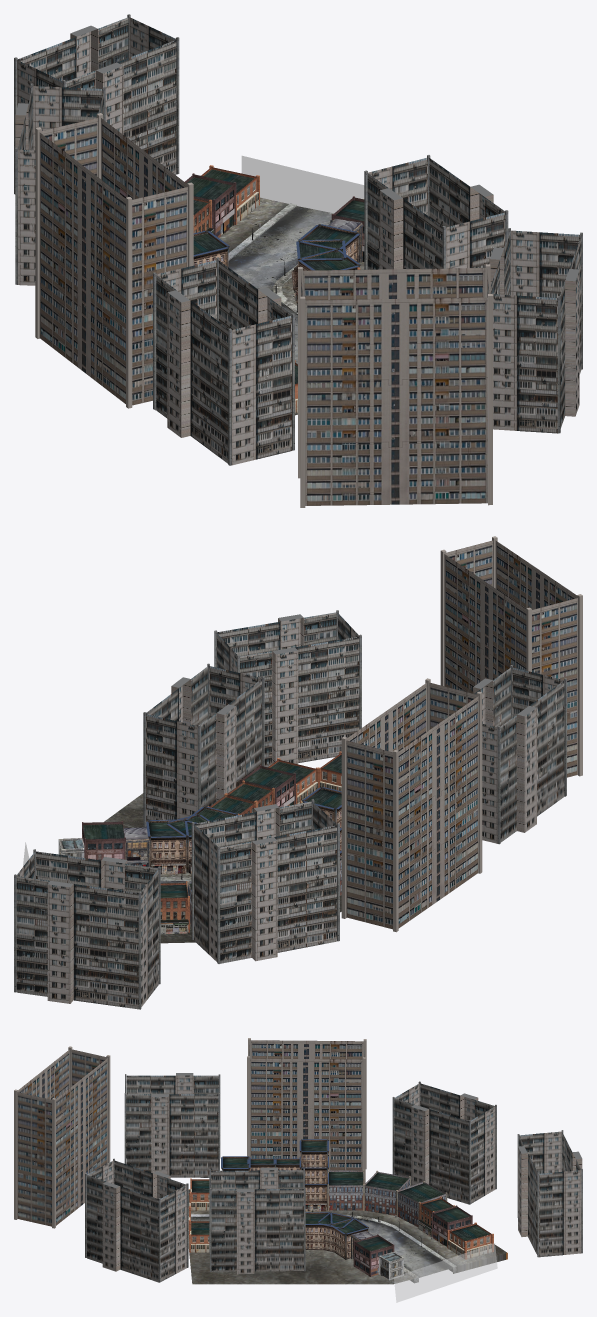
The model's file is street-v3.glb.
3 renders of one model, top to bottom at view 1: azimuth 30°, elevation 25°; view 2: azimuth 150°, elevation 25°; view 3: azimuth 270°, elevation 25°, orthographic. The views are drawn at different scales.
Parts seen in each view (by area): view 1: Plane.030, Plane.027, Cube.016, Cube.019, Cube.013, Cube.014, Cube.012, Plane, Plane.001, Cube.005, Cube.006, Plane.006 (+6 smaller); view 2: Plane.027, Cube.012, Cube.013, Plane.030, Cube.019, Cube.014, Cube.016, Plane.026, Cube.008, Plane.011, Cube.009, Cube.010 (+7 smaller); view 3: Plane.027, Plane.030, Cube.019, Cube.012, Cube.014, Cube.016, Cube.013, Plane.007, Plane.001, Plane.006, Plane, Cube.004 (+17 smaller).
Boxes of the visible parts, bbox=[...] form: Plane.030: bbox=[298, 264, 492, 507]; Plane.027: bbox=[35, 113, 193, 408]; Cube.016: bbox=[153, 257, 294, 465]; Cube.019: bbox=[489, 228, 582, 433]; Cube.013: bbox=[14, 14, 179, 194]; Cube.014: bbox=[364, 155, 508, 269]; Cube.012: bbox=[15, 83, 105, 285]; Plane: bbox=[228, 206, 333, 364]; Plane.001: bbox=[241, 156, 364, 213]; Cube.005: bbox=[185, 173, 236, 237]; Cube.006: bbox=[201, 165, 259, 224]; Plane.006: bbox=[219, 197, 297, 415]; Plane.027: bbox=[341, 678, 482, 932]; Cube.012: bbox=[191, 799, 339, 963]; Cube.013: bbox=[14, 849, 160, 1009]; Plane.030: bbox=[440, 536, 582, 777]; Cube.019: bbox=[214, 610, 361, 767]; Cube.014: bbox=[143, 663, 264, 827]; Cube.016: bbox=[473, 665, 566, 844]; Plane.026: bbox=[146, 819, 188, 874]; Cube.008: bbox=[82, 821, 125, 860]; Plane.011: bbox=[160, 881, 189, 934]; Cube.009: bbox=[240, 765, 295, 807]; Cube.010: bbox=[268, 758, 318, 804]; Plane.027: bbox=[247, 1038, 366, 1184]; Plane.030: bbox=[14, 1046, 110, 1228]; Cube.019: bbox=[85, 1158, 188, 1282]; Cube.012: bbox=[392, 1081, 496, 1204]; Cube.014: bbox=[209, 1167, 305, 1274]; Cube.016: bbox=[124, 1073, 220, 1177]; Cube.013: bbox=[517, 1130, 582, 1257]; Plane.007: bbox=[188, 1239, 413, 1284]; Plane.001: bbox=[394, 1243, 497, 1302]; Plane.006: bbox=[188, 1189, 507, 1273]; Plane: bbox=[191, 1217, 451, 1277]; Cube.004: bbox=[327, 1169, 364, 1210].
Bounding box in the file's own units: 26.07 × 13.49 × 49.61.
13 materials, 11 textured.
